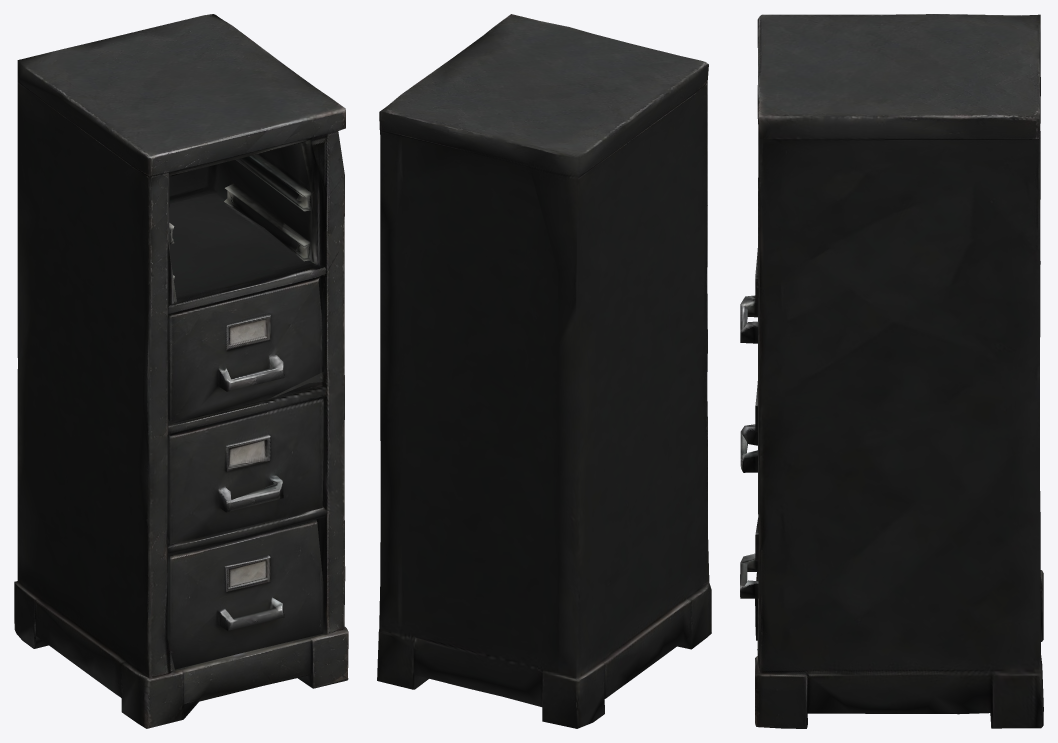
File: metal+filing+cabinet+3d+model.glb
3 renders of one model, left to right at view 1: azimuth 30°, elevation 25°; view 2: azimuth 150°, elevation 25°; view 3: azimuth 270°, elevation 25°, orthographic. The views are drawn at different scales.
Parts seen in each view (by area): view 1: tripo_node_6e60e725-e2e0-41c7-87f5-519a73496650; view 2: tripo_node_6e60e725-e2e0-41c7-87f5-519a73496650; view 3: tripo_node_6e60e725-e2e0-41c7-87f5-519a73496650.
Boxes of the visible parts, x1,y1,x2,y2 form: tripo_node_6e60e725-e2e0-41c7-87f5-519a73496650: (14,14,348,728); tripo_node_6e60e725-e2e0-41c7-87f5-519a73496650: (377,14,711,728); tripo_node_6e60e725-e2e0-41c7-87f5-519a73496650: (740,14,1043,728).
Size of the model in its own units: 0.3791 by 1 by 0.4504.
1 material, 1 textured.
